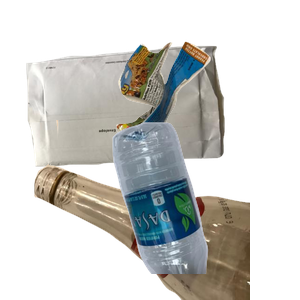glass: (31, 120, 271, 300)
paper: (24, 43, 242, 202)
plastic: (110, 120, 300, 300)
trash: (114, 39, 300, 188)
